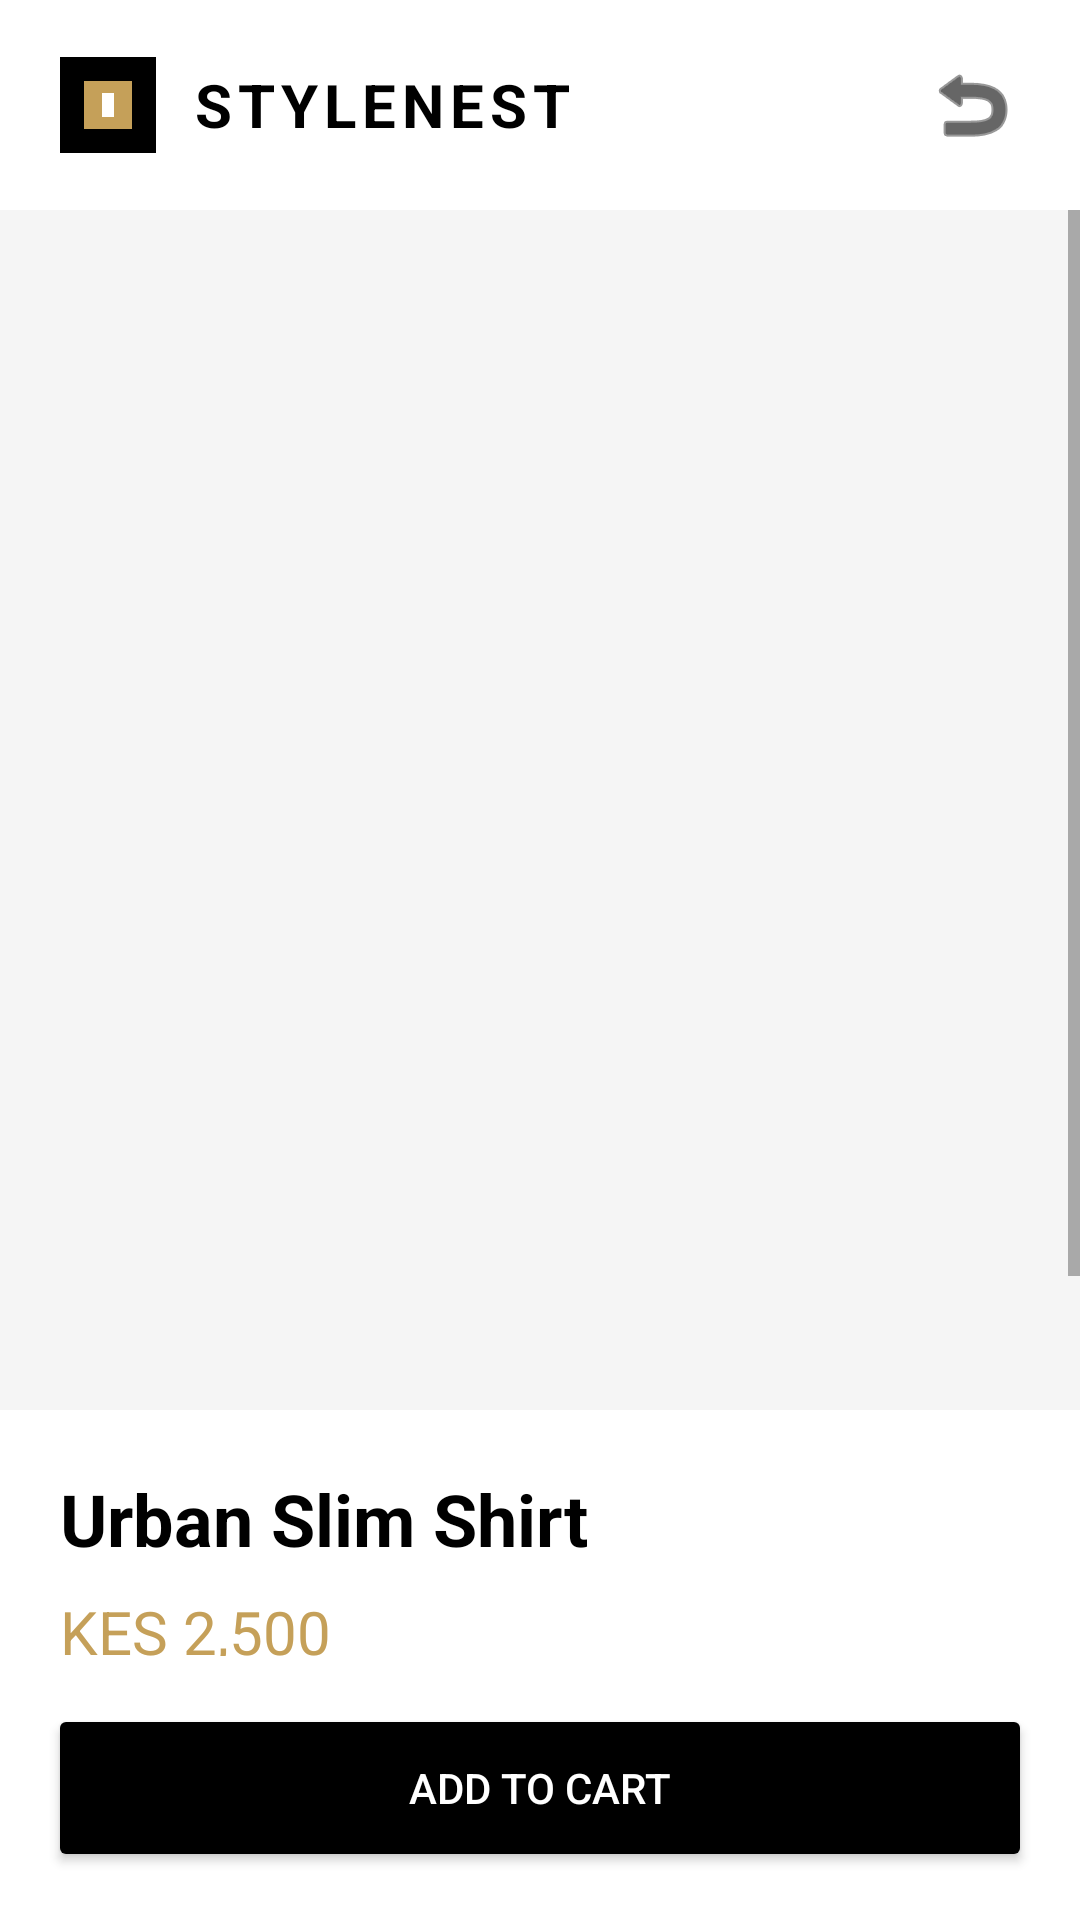

Where to tap for icons on this 1080 × 1920 app screen, as (x=x, y=y):
revert: (x=973, y=105)
